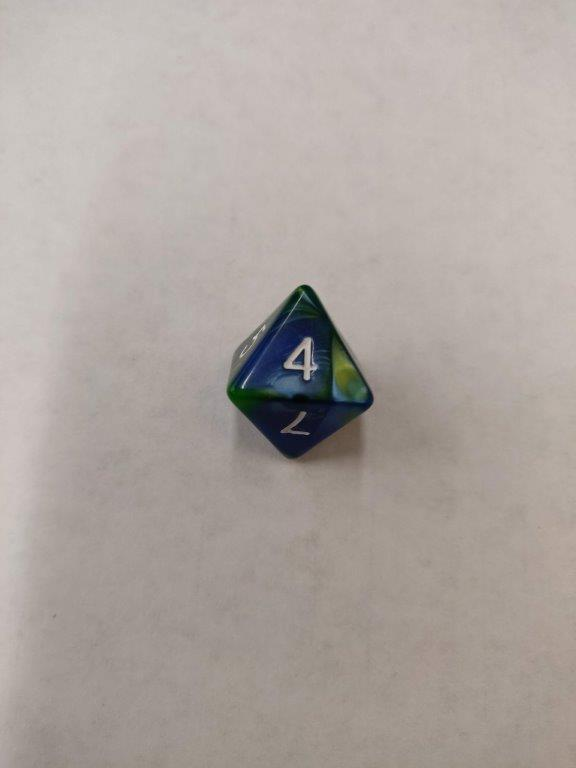d8-4: (229, 283, 377, 461)
